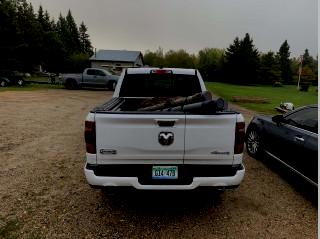ram: (156, 129, 179, 149)
